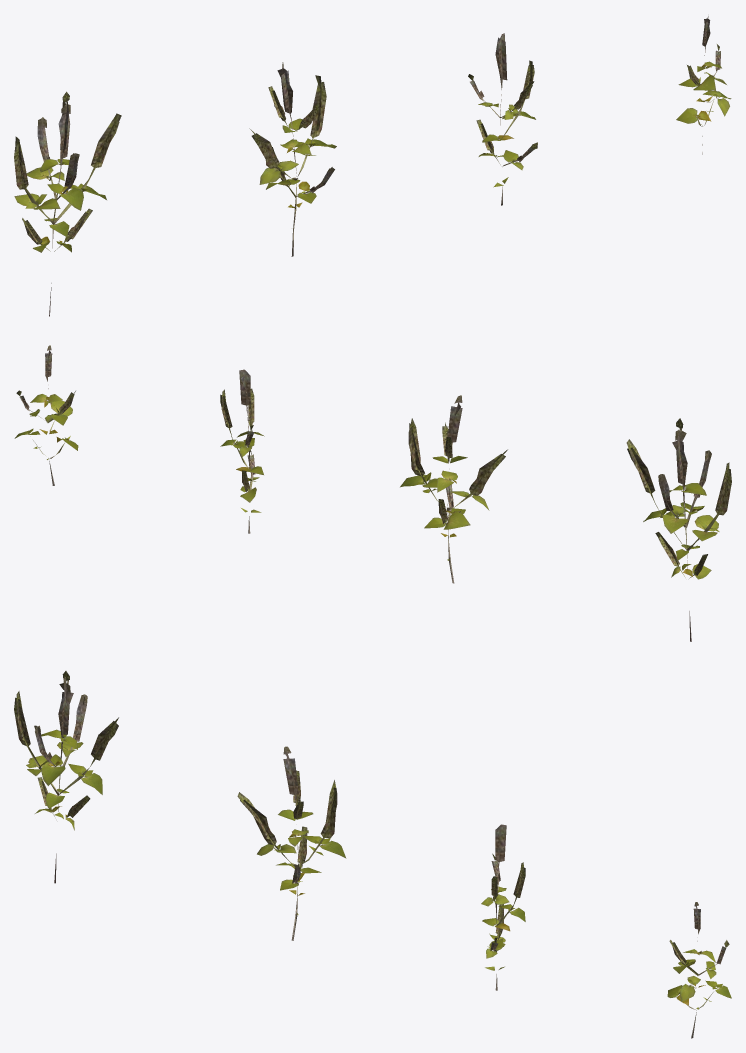
The model's file is shrub_03_lod2.glb.
3 views of the same model, one above another, from view 1: azimuth 30°, elevation 25°; view 2: azimuth 150°, elevation 25°; view 3: azimuth 330°, elevation 25° (orthographic). The views are drawn at different scales.
Visible parts, largest first — view 1: shrub_03_a; view 2: shrub_03_a; view 3: shrub_03_a.
Boxes of the visible parts, x1,y1,x2,y2 form: shrub_03_a: (14, 16, 731, 316); shrub_03_a: (14, 345, 731, 641); shrub_03_a: (14, 671, 731, 1038).
Bounding box in the file's own units: 1.37 × 0.4028 × 0.1512.
1 material, 1 textured.
